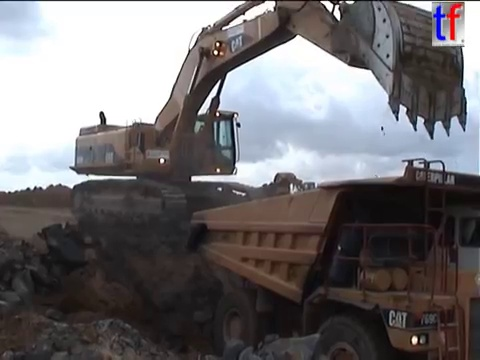excavator: (64, 1, 471, 230), (268, 170, 327, 212)
truck: (185, 154, 480, 360)
